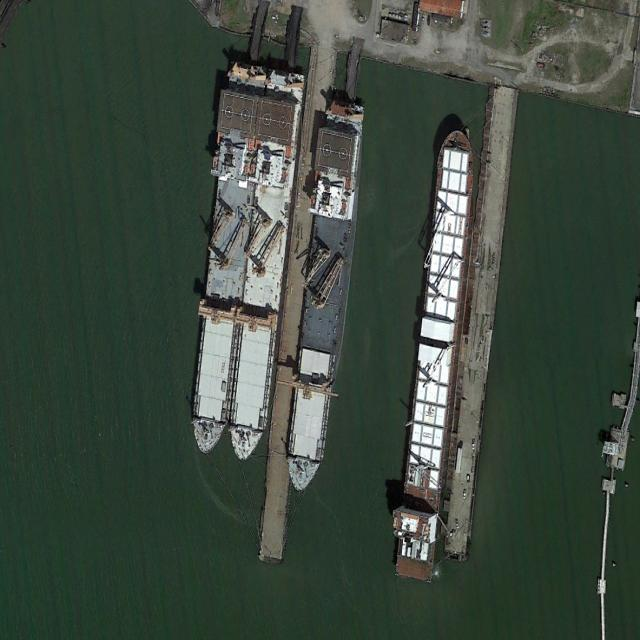Cargo: (279, 96, 368, 496), (220, 60, 307, 465), (184, 60, 265, 457)
Container Ship: (386, 123, 478, 583)
